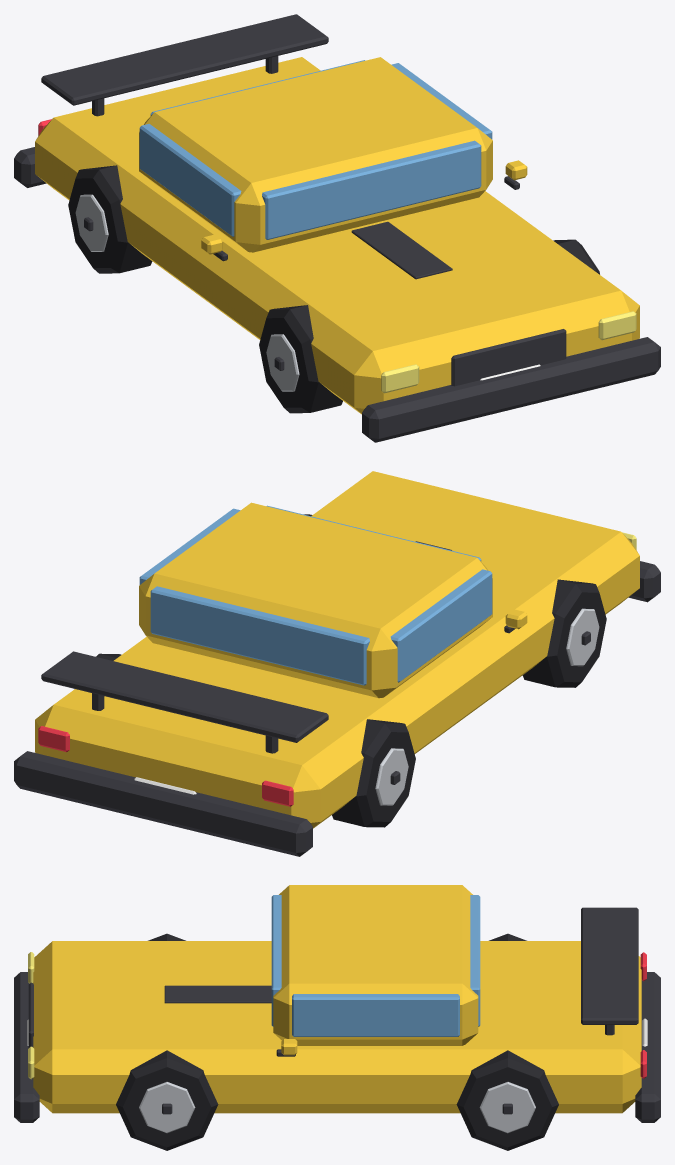
The model's file is SportsCar.fbx.
3 views of the same model, one above another, from view 1: azimuth 30°, elevation 25°; view 2: azimuth 150°, elevation 25°; view 3: azimuth 270°, elevation 25° (orthographic). The views are drawn at different scales.
Visible parts, largest first — view 1: SportsCar, SportsCar_WheelBR, SportsCar_WheelFR; view 2: SportsCar, SportsCar_WheelBR, SportsCar_WheelFR; view 3: SportsCar, SportsCar_WheelBL, SportsCar_WheelFL.
Part boxes in pixels (box(x1,y1,x2,y2)): SportsCar: box(14, 14, 660, 442); SportsCar_WheelBR: box(68, 165, 152, 273); SportsCar_WheelFR: box(259, 305, 342, 413); SportsCar: box(14, 471, 660, 856); SportsCar_WheelBR: box(332, 719, 415, 827); SportsCar_WheelFR: box(522, 579, 606, 687); SportsCar: box(14, 885, 660, 1122); SportsCar_WheelBL: box(456, 1050, 558, 1150); SportsCar_WheelFL: box(116, 1050, 218, 1150).
Size of the model in its own units: 5.15 by 2.66 by 10.1.
Materials: 1 (1 with a texture image).
